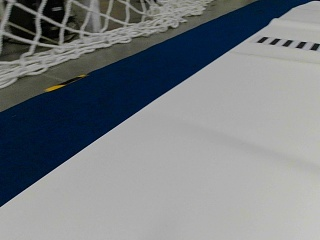crosswalk: (256, 35, 317, 50)
